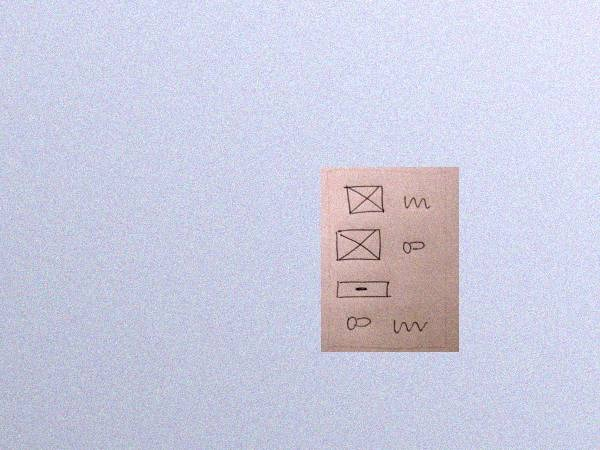button: (335, 278, 393, 301)
image: (333, 228, 383, 265), (341, 182, 388, 218)
switch: (344, 314, 373, 333), (401, 238, 427, 257)
text: (391, 316, 429, 336), (401, 192, 432, 213)
